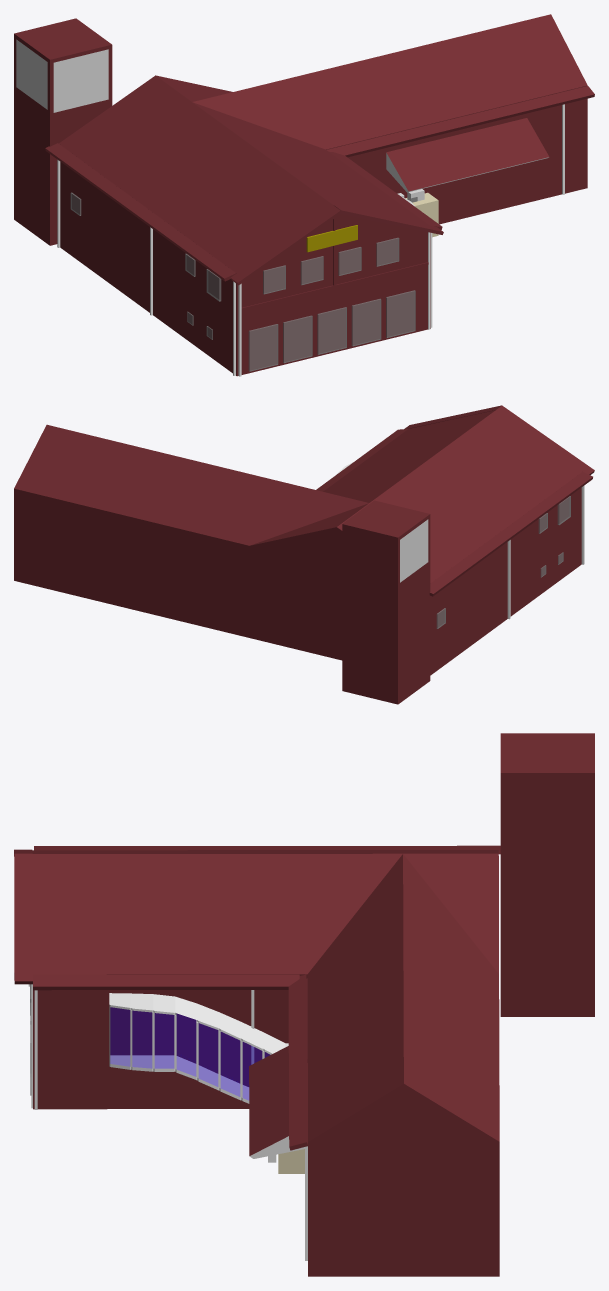
File: Building03fbx.fbx
3 renders of one model, top to bottom at view 1: azimuth 30°, elevation 25°; view 2: azimuth 150°, elevation 25°; view 3: azimuth 270°, elevation 25°, orthographic. The views are drawn at different scales.
Visible parts, largest first — view 1: Building03; view 2: Building03; view 3: Building03.
Part boxes in pixels (x1,y1,x2,y2): Building03: (14, 14, 594, 376); Building03: (14, 405, 594, 704); Building03: (14, 733, 594, 1276).
Bounding box in the file's own units: 6181 × 2381 × 5063.
